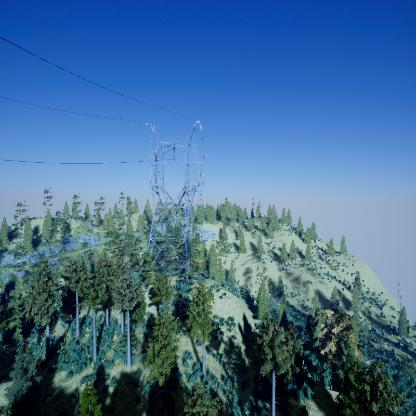tower: (140, 117, 208, 278)
